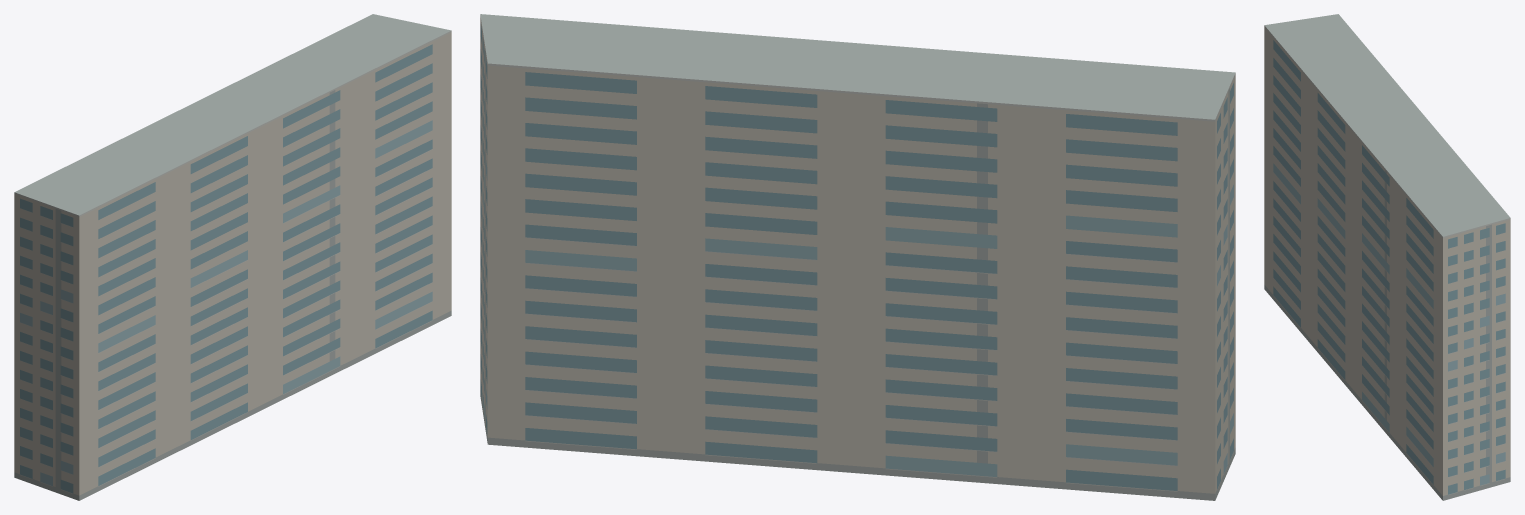
File: residential-a7a1a765-7656-46c2-a84e-c9869bda3ec1.glb
The picture shows the model from 3 angles, left to right: view 1: azimuth 30°, elevation 25°; view 2: azimuth 150°, elevation 25°; view 3: azimuth 270°, elevation 25°; orthographic projection. The views are drawn at different scales.
Visible parts, largest first — view 1: residential-a7a1a765-7656-46c2-a84e-c9869bda3ec1.tmp; view 2: residential-a7a1a765-7656-46c2-a84e-c9869bda3ec1.tmp; view 3: residential-a7a1a765-7656-46c2-a84e-c9869bda3ec1.tmp.
Boxes of the visible parts, x1,y1,x2,y2 form: residential-a7a1a765-7656-46c2-a84e-c9869bda3ec1.tmp: [14, 14, 451, 500]; residential-a7a1a765-7656-46c2-a84e-c9869bda3ec1.tmp: [480, 14, 1235, 500]; residential-a7a1a765-7656-46c2-a84e-c9869bda3ec1.tmp: [1264, 14, 1510, 500].
Size of the model in its own units: 82.84 by 45.75 by 38.68.
